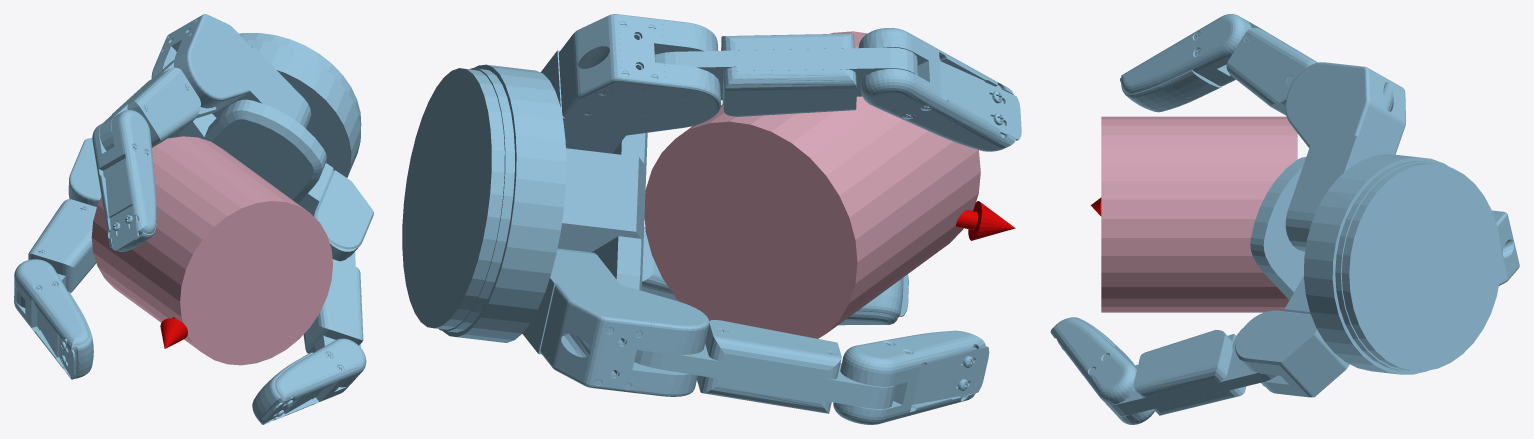
3 renders of one model, left to right at view 1: azimuth 30°, elevation 25°; view 2: azimuth 150°, elevation 25°; view 3: azimuth 270°, elevation 25°, orthographic. The views are drawn at different scales.
Visible parts, largest first — view 1: world, cylinder_medium.stl; view 2: world, cylinder_medium.stl; view 3: world, cylinder_medium.stl.
Boxes of the visible parts, <box> form: world: <box>14,14,373,424</box>; cylinder_medium.stl: <box>91,136,332,365</box>; world: <box>402,14,1021,424</box>; cylinder_medium.stl: <box>644,31,980,338</box>; world: <box>1050,14,1519,424</box>; cylinder_medium.stl: <box>1101,116,1297,312</box>.
Size of the model in its own units: 0.1838 by 0.1533 by 0.1913.
